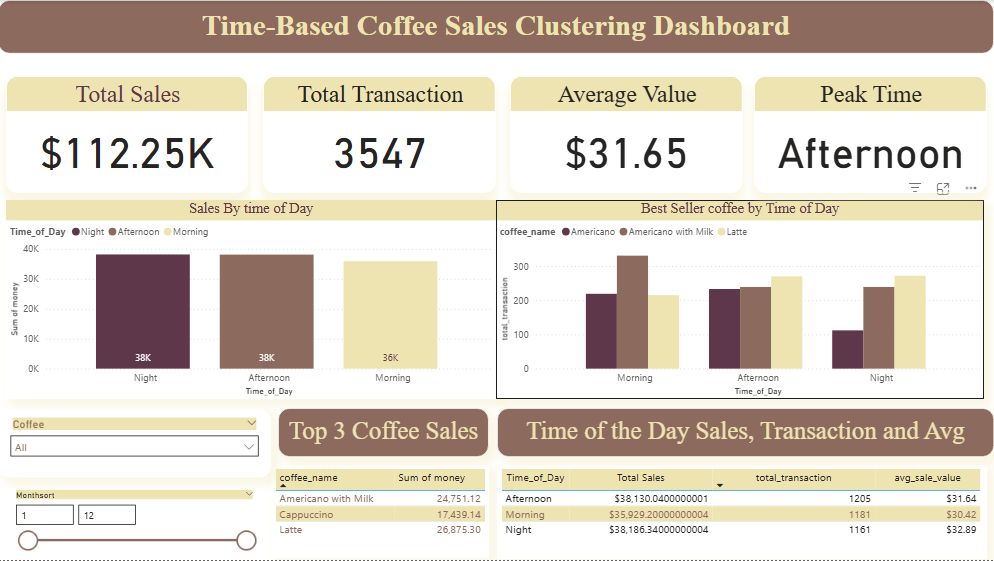

This screenshot's page, from the dashboard's own definition file:
{"tool":"powerbi","page":{"name":"Page 1","canvas":[1280,720],"ordinal":0},"visuals":[{"type":"card","title":"Total Sales","fields":{"Values":["Coffe_Sales.Total Sales"]},"box":[10.3,97.7,311,150.4],"z":0},{"type":"card","title":"Total Transactions","fields":{"Values":["CountNonNull(Sheet1.coffee_name)"]},"box":[340.6,97.7,299.4,150.4],"z":1000},{"type":"columnChart","title":"Sales By time of Day","fields":{"Y":["Sum(Coffe_Sales.money)"],"Category":["Coffe_Sales.Time_of_Day"],"Series":["Coffe_Sales.Time_of_Day"]},"box":[10.3,257,629.7,255.7],"z":2000},{"type":"card","title":"Average Value","fields":{"Values":["Coffe_Sales.avg_sale_value"]},"box":[658,97.7,299.4,150.4],"z":3000},{"type":"clusteredColumnChart","title":"Best Seller coffee by Time of Day","fields":{"Y":["Coffe_Sales.total_transaction"],"Series":["Coffe_Sales.coffee_name"],"Category":["Coffe_Sales.Time_of_Day"]},"box":[640,257,627.1,255.7],"z":4000},{"type":"tableEx","fields":{"Values":["Coffe_Sales.coffee_name","Sum(Coffe_Sales.money)"]},"box":[350.8,597.6,280.2,119.5],"z":5000},{"type":"tableEx","fields":{"Values":["Coffe_Sales.Time_of_Day","Coffe_Sales.Total Sales","Coffe_Sales.total_transaction","Coffe_Sales.avg_sale_value"]},"box":[641.3,597.6,629.7,120.8],"z":6000},{"type":"card","title":"Peak Time","fields":{"Values":["Coffe_Sales.Peak Time by Transactions"]},"box":[971.6,97.7,299.4,150.4],"z":7000},{"type":"slicer","fields":{"Values":["Coffe_Sales.Monthsort"]},"box":[10.3,624.6,330.3,95.1],"z":8000},{"type":"slicer","fields":{"Values":["Coffe_Sales.coffee_name"]},"box":[0,525.7,351.4,87.8],"z":9000},{"type":"textbox","box":[0,0,1279.7,68.9],"z":10000},{"type":"textbox","box":[359.8,524.3,271.2,63],"z":11000},{"type":"textbox","box":[641.3,524.3,638.7,63],"z":12000}]}

Visuals, with their boxes in screenshot pixels (x1, y1, x2, y2), scaled from the page's 1280x720 canvas onto the 994x561 screenshot:
"Total Sales" card: region(8, 76, 250, 193)
"Total Transactions" card: region(264, 76, 497, 193)
"Sales By time of Day" columnChart: region(8, 200, 497, 399)
"Average Value" card: region(511, 76, 743, 193)
"Best Seller coffee by Time of Day" clusteredColumnChart: region(497, 200, 984, 399)
tableEx - Coffe_Sales.coffee_name x Sum(Coffe_Sales.money): region(272, 466, 490, 559)
tableEx - Coffe_Sales.Time_of_Day x Coffe_Sales.Total Sales: region(498, 466, 987, 560)
"Peak Time" card: region(755, 76, 987, 193)
slicer - Coffe_Sales.Monthsort: region(8, 487, 264, 560)
slicer - Coffe_Sales.coffee_name: region(0, 410, 273, 478)
textbox: region(0, 0, 993, 54)
textbox: region(279, 409, 490, 458)
textbox: region(498, 409, 993, 458)
